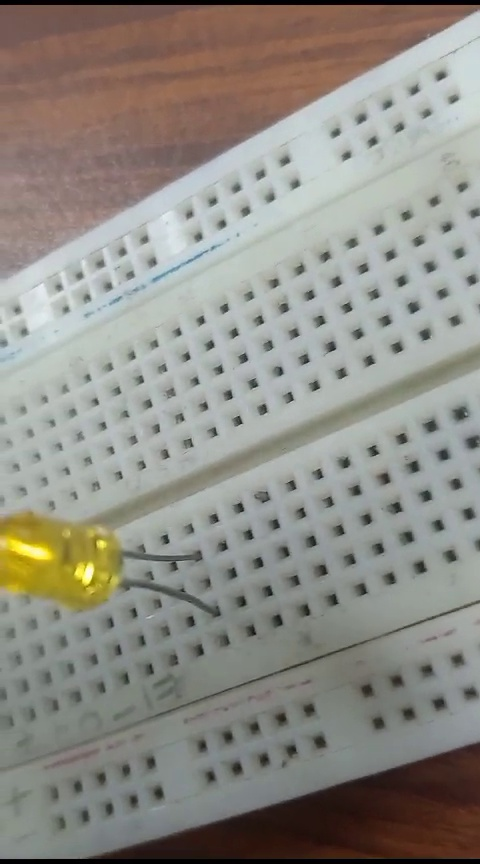LED: (4, 504, 247, 649)
